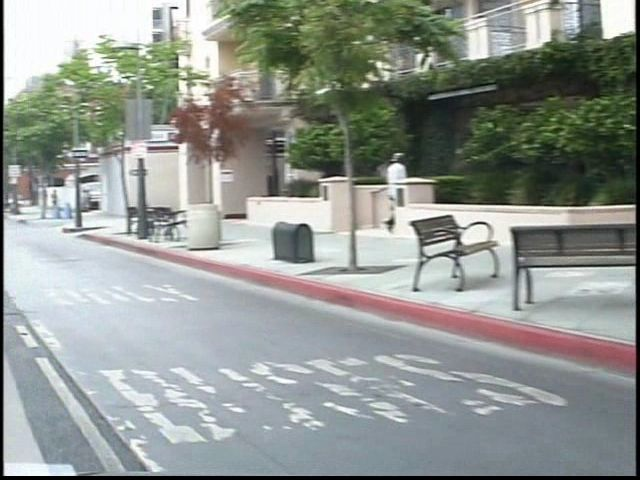person: (361, 146, 396, 199), (33, 182, 51, 216)
